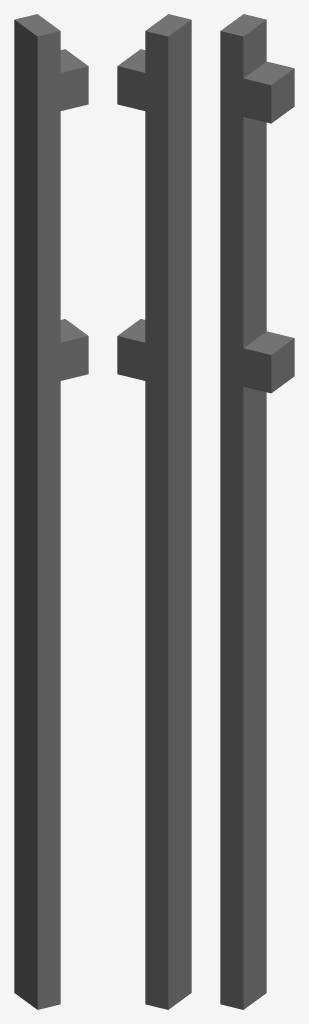
Rendered from SighnHolderLong.fbx.
The picture shows the model from 3 angles, left to right: view 1: azimuth 30°, elevation 25°; view 2: azimuth 150°, elevation 25°; view 3: azimuth 330°, elevation 25°; orthographic projection.
Visible parts, largest first — view 1: Cube.003; view 2: Cube.003; view 3: Cube.003.
Boxes of the visible parts, x1,y1,x2,y2 form: Cube.003: (14, 14, 88, 1009); Cube.003: (117, 14, 191, 1009); Cube.003: (220, 14, 294, 1009).
Bounding box in the file's own units: 38.33 × 701 × 30.32.
